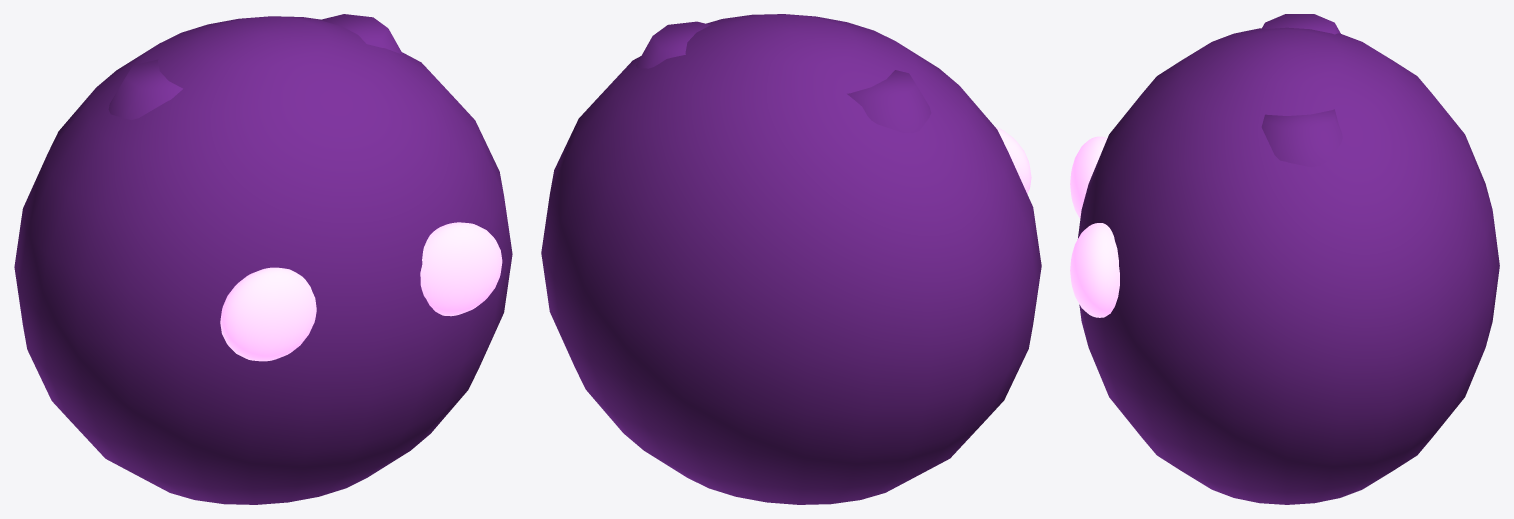
Rendered from Enemy.fbx.
3 views of the same model, side by side, from view 1: azimuth 30°, elevation 25°; view 2: azimuth 150°, elevation 25°; view 3: azimuth 270°, elevation 25° (orthographic). The views are drawn at different scales.
Parts seen in each view (by area): view 1: Shadow, Eye.002, Eye.003, Horn, Horn.001; view 2: Shadow, Horn, Horn.001, Eye.002; view 3: Shadow, Eye.003, Horn.001, Eye.002, Horn.
Part boxes in pixels (<box>): Shadow: <box>14,16,512,504</box>; Eye.002: <box>220,267,316,361</box>; Eye.003: <box>420,222,502,316</box>; Horn: <box>108,59,182,119</box>; Horn.001: <box>319,14,402,53</box>; Shadow: <box>541,14,1041,504</box>; Horn: <box>847,70,931,133</box>; Horn.001: <box>636,21,710,68</box>; Eye.002: <box>995,126,1031,193</box>; Shadow: <box>1078,27,1499,504</box>; Eye.003: <box>1070,223,1119,317</box>; Horn.001: <box>1261,109,1342,167</box>; Eye.002: <box>1070,136,1107,218</box>; Horn: <box>1262,14,1340,34</box>.
Size of the model in its own units: 58 by 56 by 50.5.
